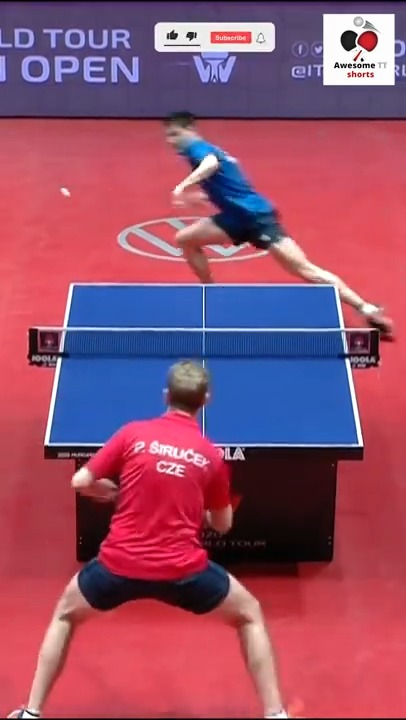Ball: (59, 186, 72, 200)
